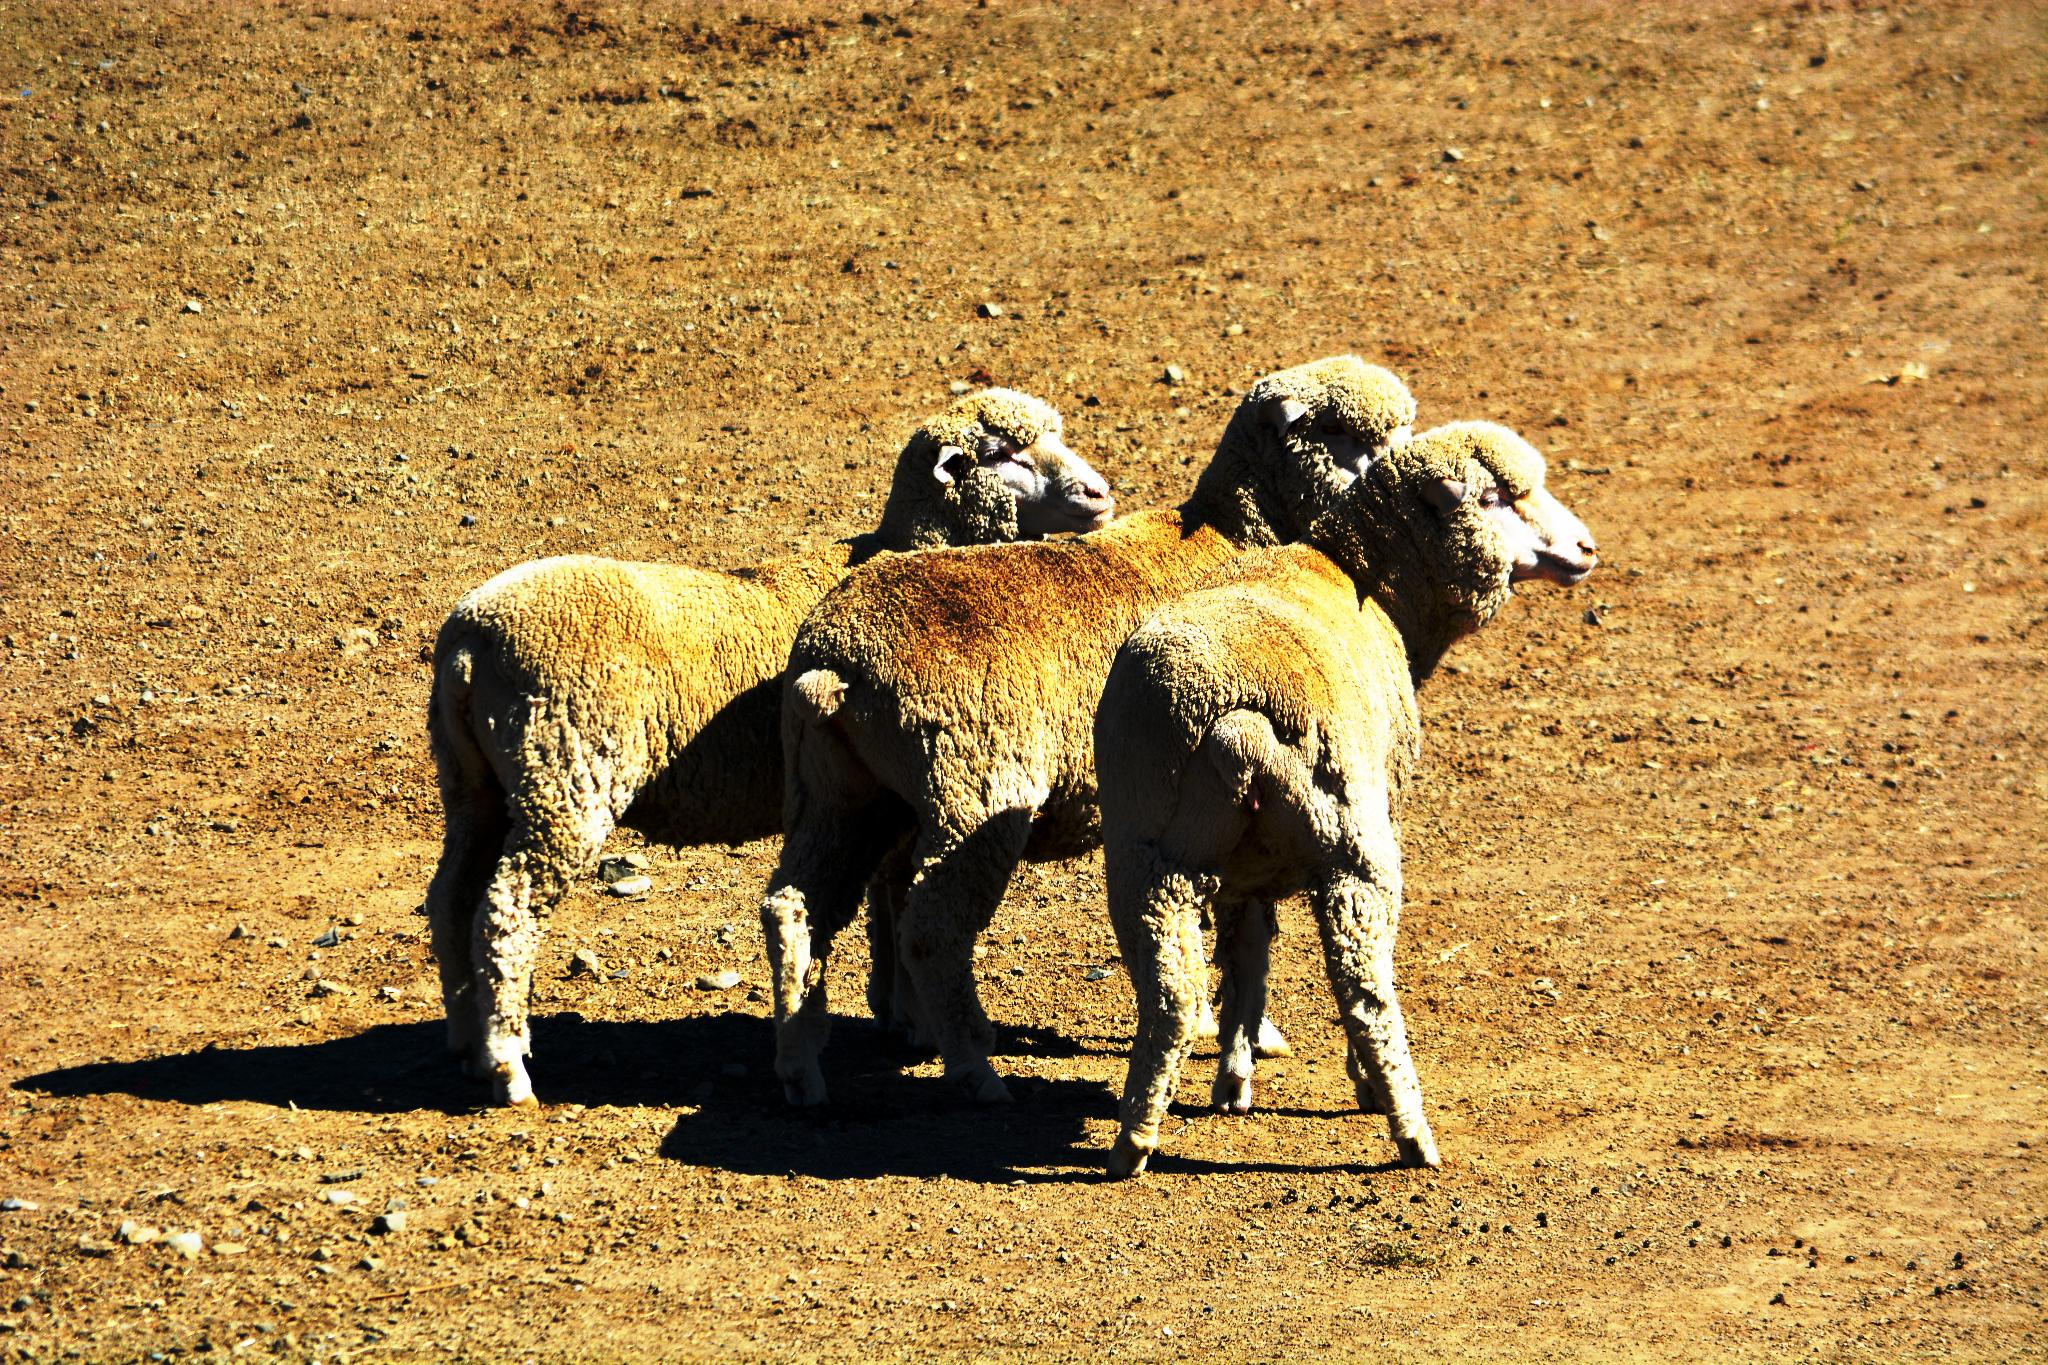Sheep: (420, 381, 1118, 1104), (755, 356, 1416, 1118), (1087, 420, 1600, 1184)
